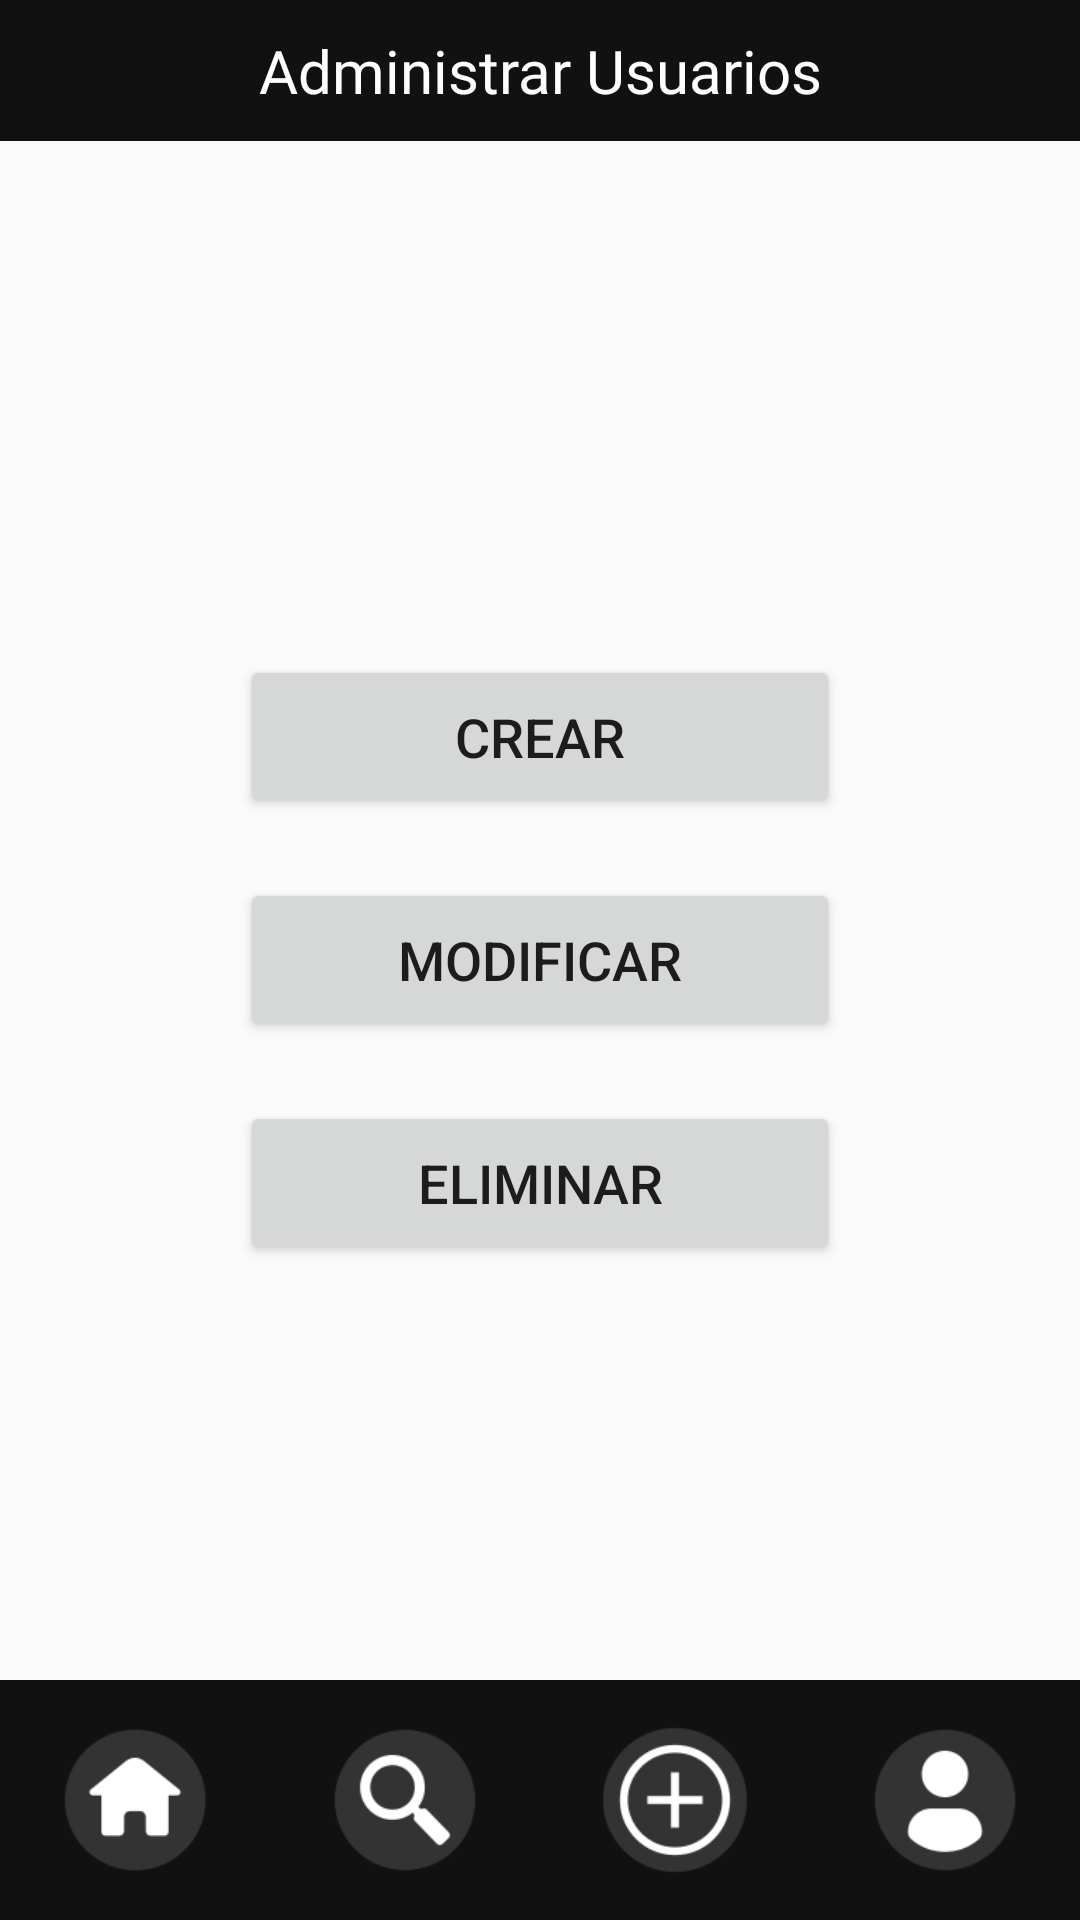

Named icons in this screenshot (1080x1920) and their bounding boxes, {"left": x1, "top": y1, "right": x2, "bottom": y2}:
agregar: {"left": 603, "top": 1728, "right": 746, "bottom": 1871}
perfil us: {"left": 875, "top": 1730, "right": 1015, "bottom": 1870}
